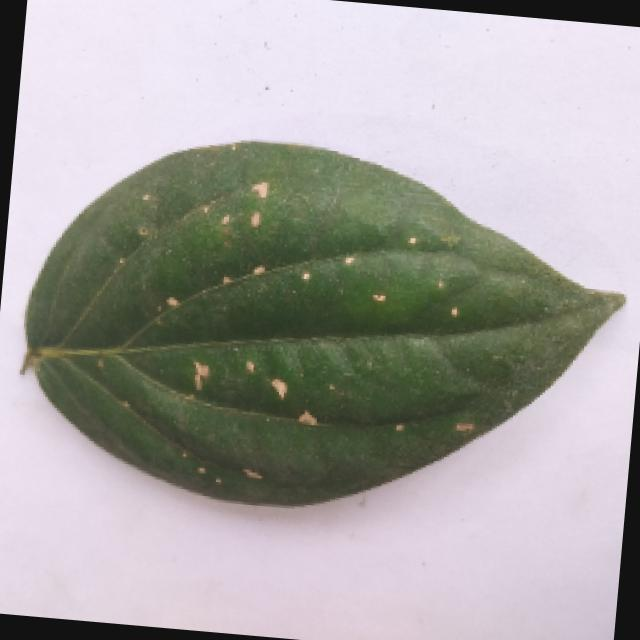pollu-disease: (11, 112, 640, 551)
